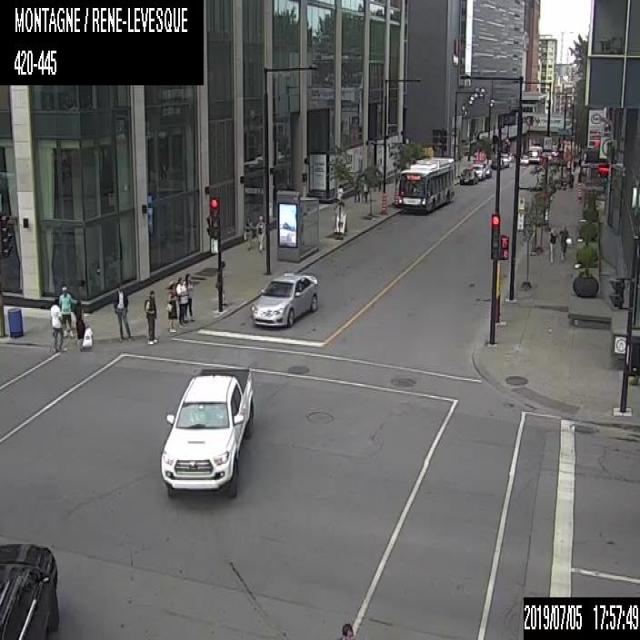bus: (396, 155, 454, 212), (527, 144, 540, 162)
construction: (379, 189, 386, 215), (392, 188, 399, 206), (577, 182, 581, 198)
pedestrian: (74, 300, 93, 349), (114, 283, 131, 337), (142, 289, 157, 344), (49, 298, 63, 351), (175, 273, 188, 325), (59, 287, 72, 335), (166, 280, 177, 332), (215, 258, 225, 303), (253, 214, 265, 251), (184, 273, 193, 320), (547, 223, 557, 265), (559, 224, 568, 265), (339, 621, 356, 639), (243, 216, 252, 248), (362, 178, 369, 201), (355, 175, 361, 201)
vehicle: (159, 365, 256, 496), (0, 541, 58, 639), (249, 268, 320, 325), (458, 168, 477, 184), (471, 162, 485, 179), (484, 163, 491, 176), (519, 152, 528, 162)
